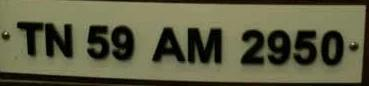0: (320, 24, 347, 72)
2: (238, 25, 268, 69)
5: (293, 22, 319, 71), (85, 20, 110, 63)
9: (110, 22, 137, 65), (267, 27, 292, 68)
A: (147, 22, 189, 69)
M: (185, 24, 226, 67)
N: (43, 20, 76, 62)
T: (13, 16, 45, 61)
